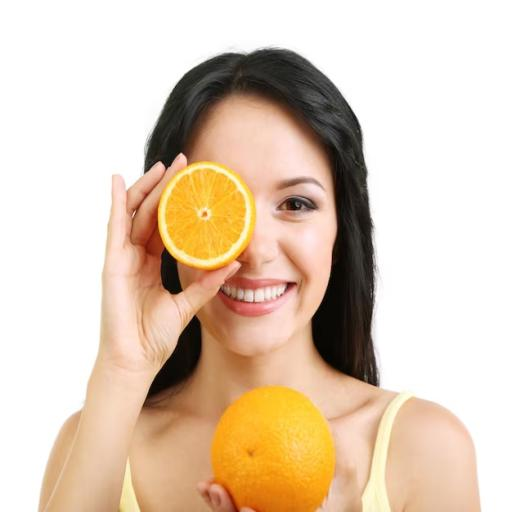orange: (212, 386, 335, 511)
